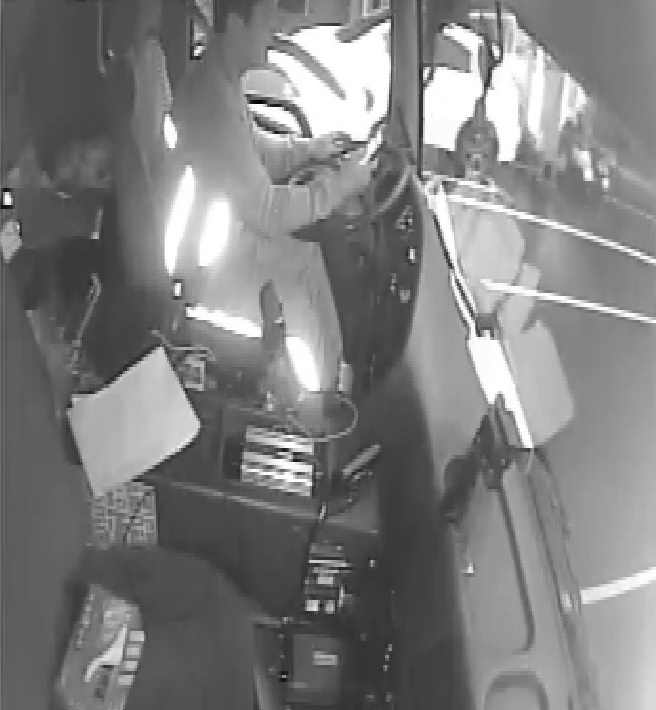cellphone: (353, 132, 385, 169)
